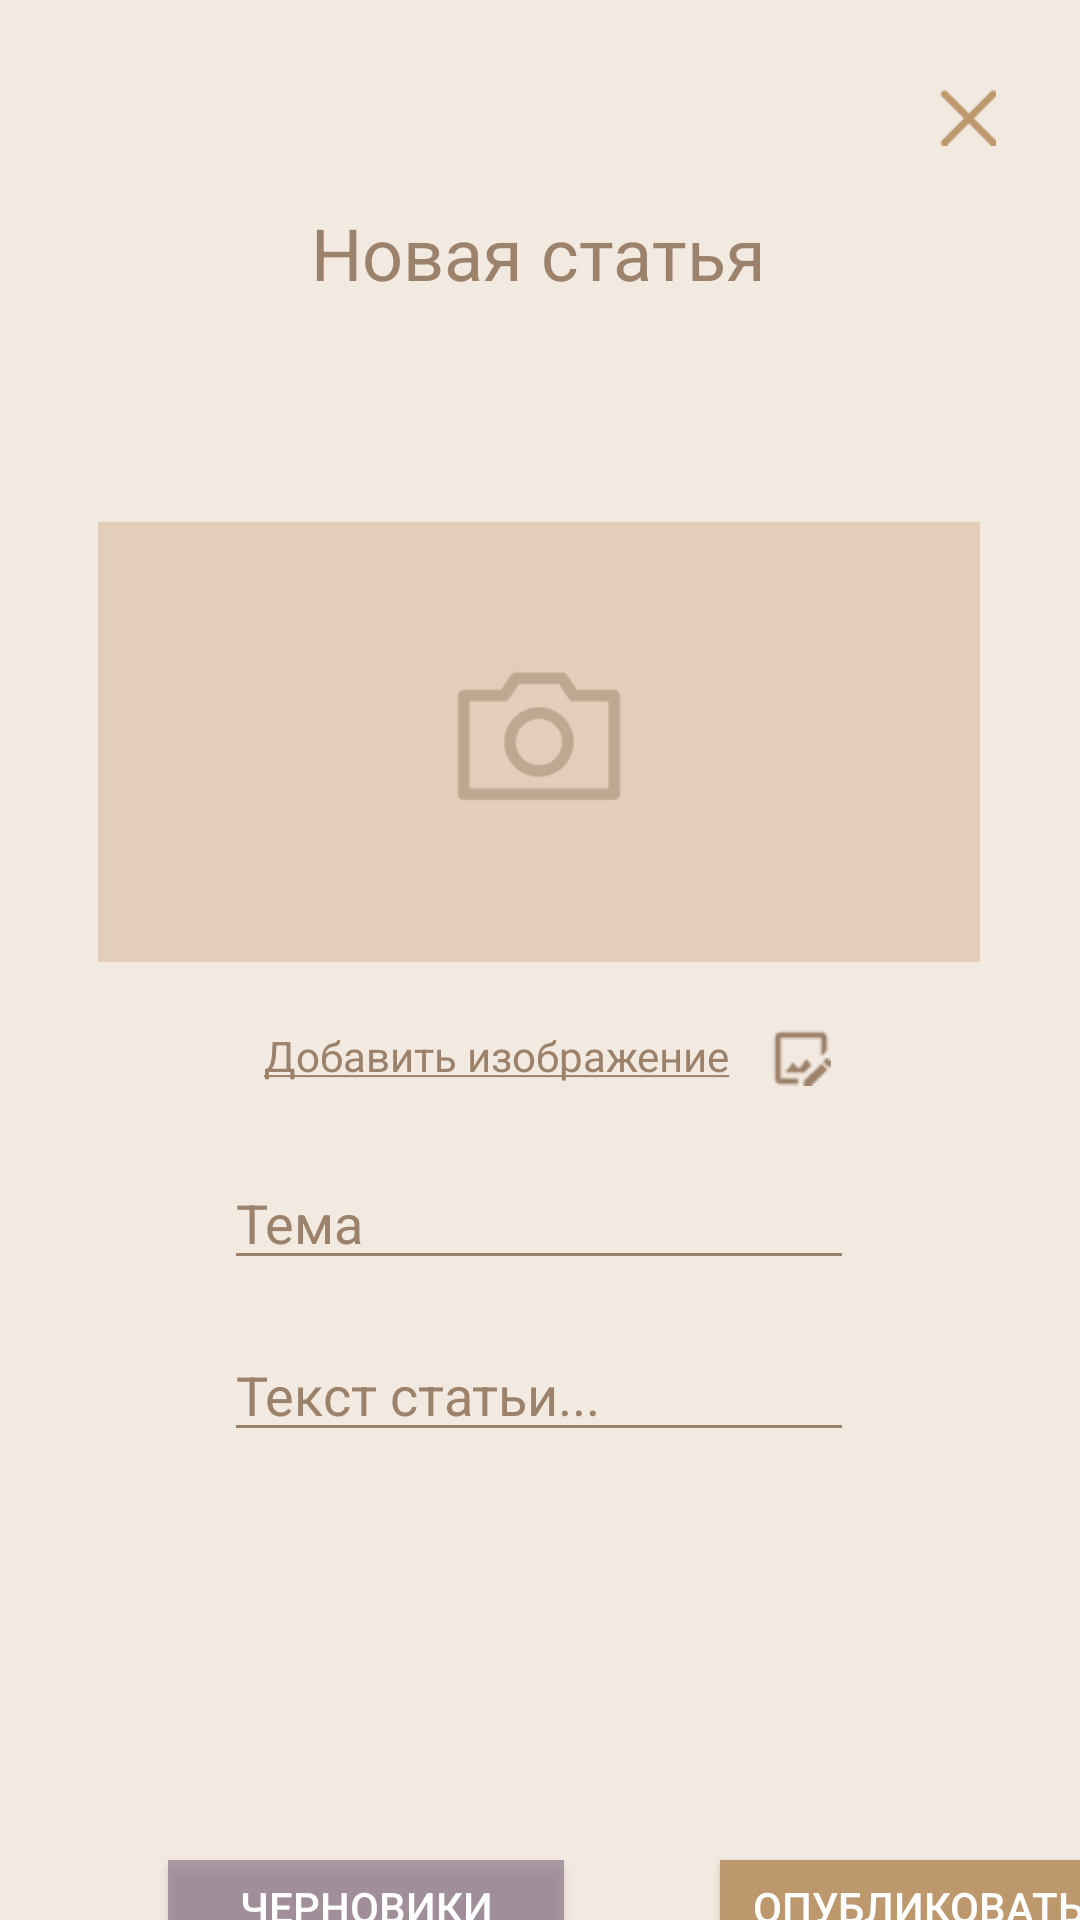

Icon click points for this 1080x1920 phone screenshot, format point (x, y):
close: point (968, 118)
